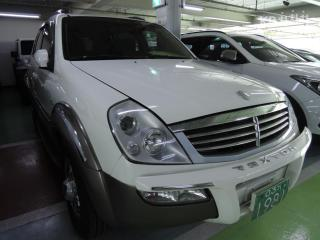0: (265, 189, 271, 198)
1: (256, 200, 262, 217), (281, 189, 286, 200)
3: (271, 185, 277, 195)
8: (272, 193, 279, 207)
9: (264, 197, 272, 213)
plate: (245, 173, 295, 224)
거: (277, 184, 282, 191)
